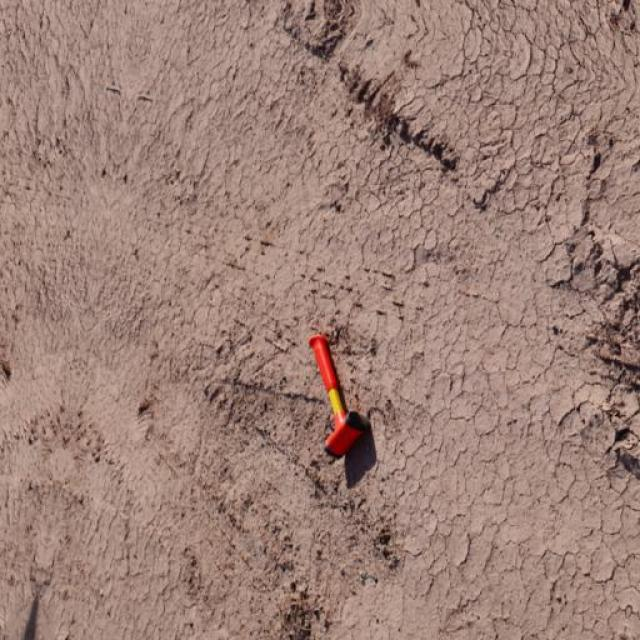mallet: (306, 332, 368, 458)
